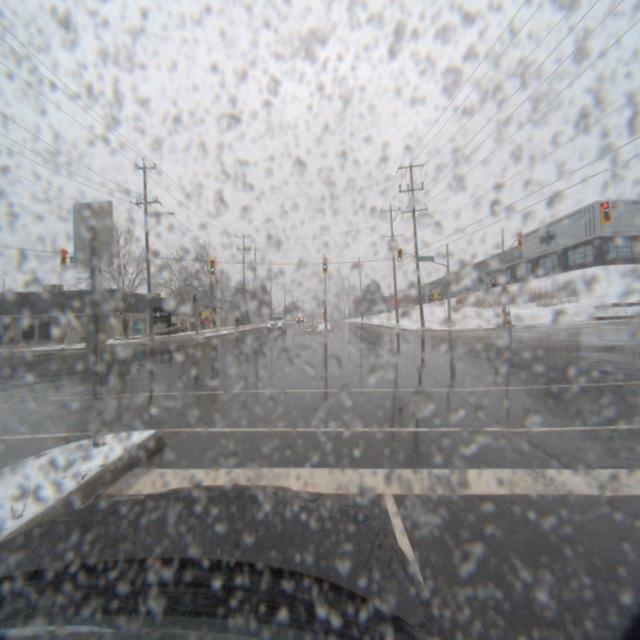Car: (261, 315, 285, 333)
